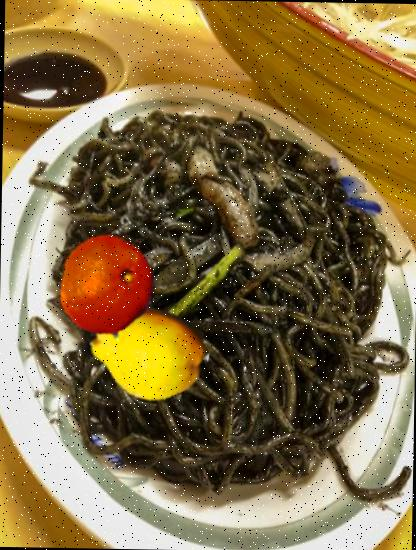Clementine: (54, 234, 160, 340)
Quince: (88, 292, 210, 414)
